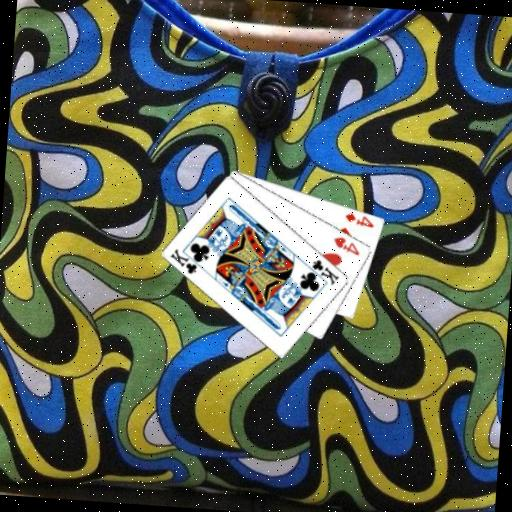4D: (342, 209, 377, 230)
4H: (330, 233, 362, 257)
KC: (167, 245, 207, 277), (302, 256, 342, 287)
